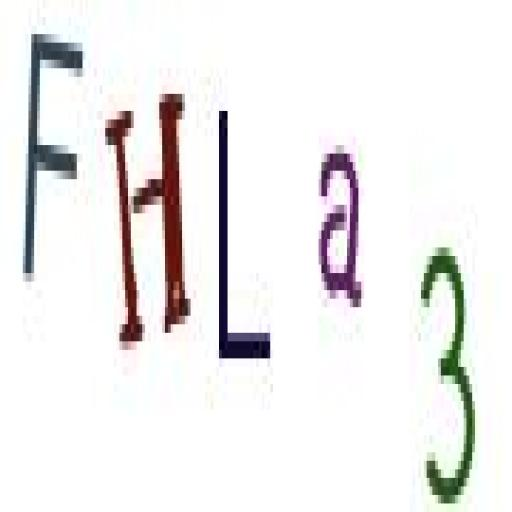3: (415, 222, 484, 512)
F: (20, 13, 88, 294)
H: (102, 86, 193, 358)
L: (213, 81, 280, 388)
a: (314, 141, 368, 318)
